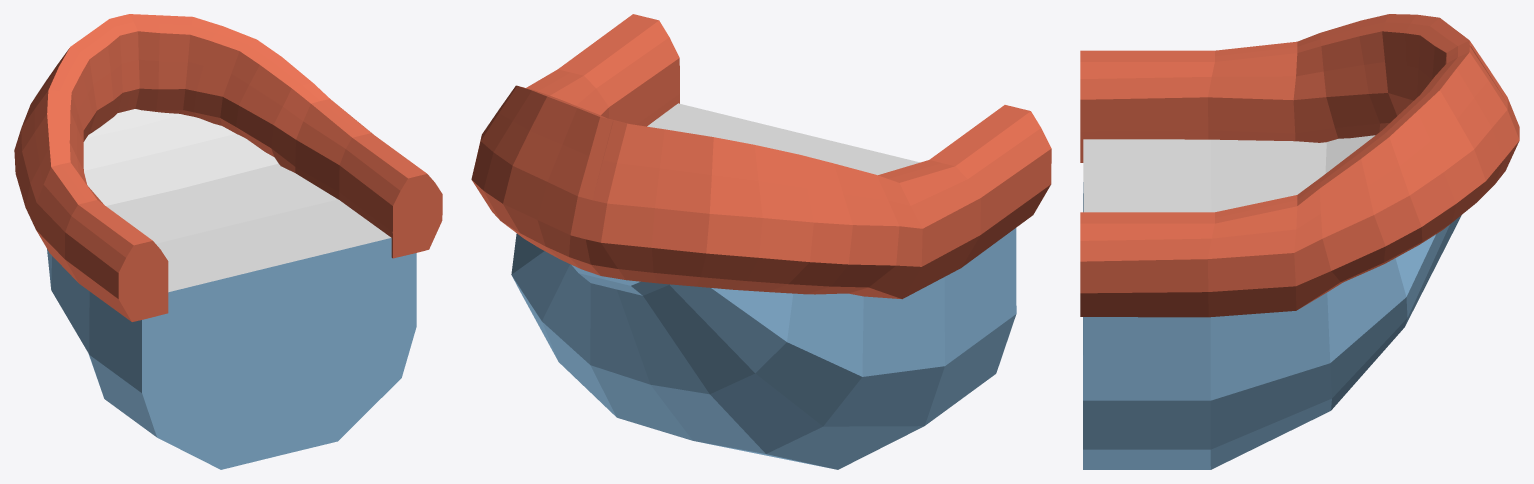
Rendered from hull-bow.glb.
The picture shows the model from 3 angles, left to right: view 1: azimuth 30°, elevation 25°; view 2: azimuth 150°, elevation 25°; view 3: azimuth 270°, elevation 25°; orthographic projection. The views are drawn at different scales.
Parts seen in each view (by area): view 1: bow-rail, bow, bow-floor; view 2: bow-rail, bow, bow-floor; view 3: bow-rail, bow, bow-floor.
Part boxes in pixels (x1=…): bow-rail: x1=14, y1=14, x2=442, y2=321; bow: x1=47, y1=238, x2=416, y2=469; bow-floor: x1=83, y1=109, x2=391, y2=292; bow-rail: x1=471, y1=14, x2=1051, y2=299; bow: x1=511, y1=228, x2=1016, y2=469; bow-floor: x1=647, y1=103, x2=920, y2=175; bow-rail: x1=1080, y1=14, x2=1519, y2=317; bow: x1=1083, y1=182, x2=1461, y2=469; bow-floor: x1=1083, y1=135, x2=1375, y2=212.
Size of the model in its own units: 7.11 by 6.73 by 6.88.
